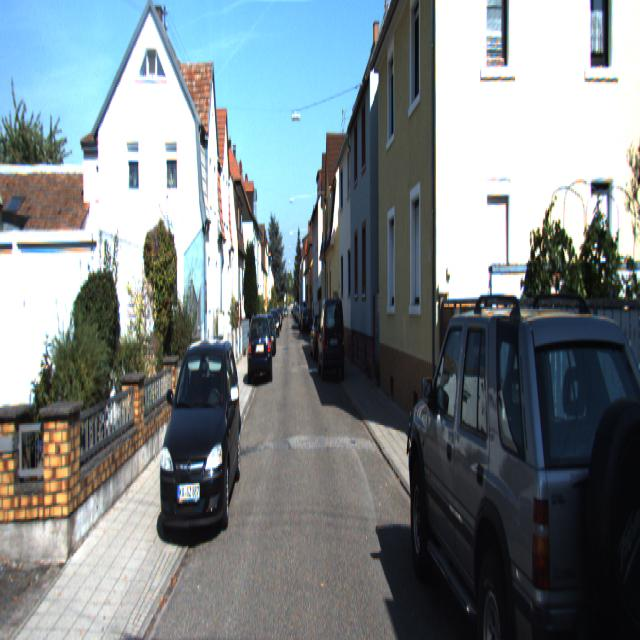Car: (404, 284, 639, 638), (156, 334, 243, 553), (320, 299, 348, 386), (248, 312, 271, 386)
